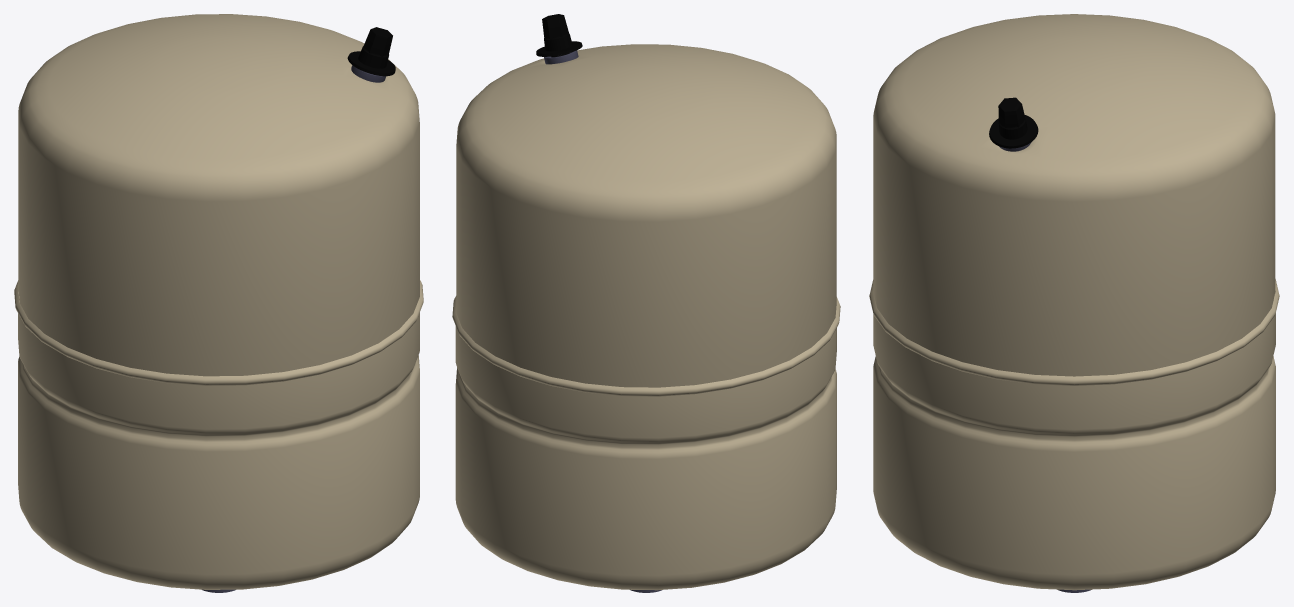
The model's file is 24lt-sabit-tank-dikey.obj.
3 views of the same model, side by side, from view 1: azimuth 30°, elevation 25°; view 2: azimuth 150°, elevation 25°; view 3: azimuth 270°, elevation 25° (orthographic). The views are drawn at different scales.
Parts seen in each view (by area): view 1: 24lt-sabit-dikey-tank.008, 24lt-sabit-dikey-tank.003, 24lt-sabit-dikey-tank.004, 24lt-sabit-dikey-tank.001; view 2: 24lt-sabit-dikey-tank.008, 24lt-sabit-dikey-tank.003, 24lt-sabit-dikey-tank.004, 24lt-sabit-dikey-tank.001; view 3: 24lt-sabit-dikey-tank.008, 24lt-sabit-dikey-tank.003, 24lt-sabit-dikey-tank.004, 24lt-sabit-dikey-tank.001.
Part boxes in pixels (left/top/right/bottom): 24lt-sabit-dikey-tank.008: left=18, top=14, right=419, bottom=376; 24lt-sabit-dikey-tank.003: left=18, top=292, right=419, bottom=589; 24lt-sabit-dikey-tank.004: left=14, top=280, right=423, bottom=385; 24lt-sabit-dikey-tank.001: left=347, top=27, right=395, bottom=76; 24lt-sabit-dikey-tank.008: left=456, top=44, right=836, bottom=387; 24lt-sabit-dikey-tank.003: left=455, top=326, right=836, bottom=590; 24lt-sabit-dikey-tank.004: left=452, top=296, right=840, bottom=396; 24lt-sabit-dikey-tank.001: left=536, top=14, right=582, bottom=56; 24lt-sabit-dikey-tank.008: left=873, top=14, right=1275, bottom=376; 24lt-sabit-dikey-tank.003: left=873, top=294, right=1275, bottom=590; 24lt-sabit-dikey-tank.004: left=869, top=279, right=1279, bottom=385; 24lt-sabit-dikey-tank.001: left=989, top=97, right=1038, bottom=148.
Size of the model in its own units: 12.86 by 18.84 by 12.86.
